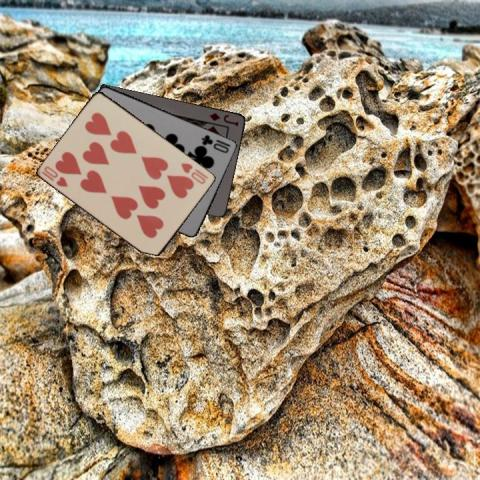10c: (199, 131, 232, 155)
10h: (178, 160, 210, 185), (39, 162, 69, 188)
Jd: (207, 109, 240, 128)
